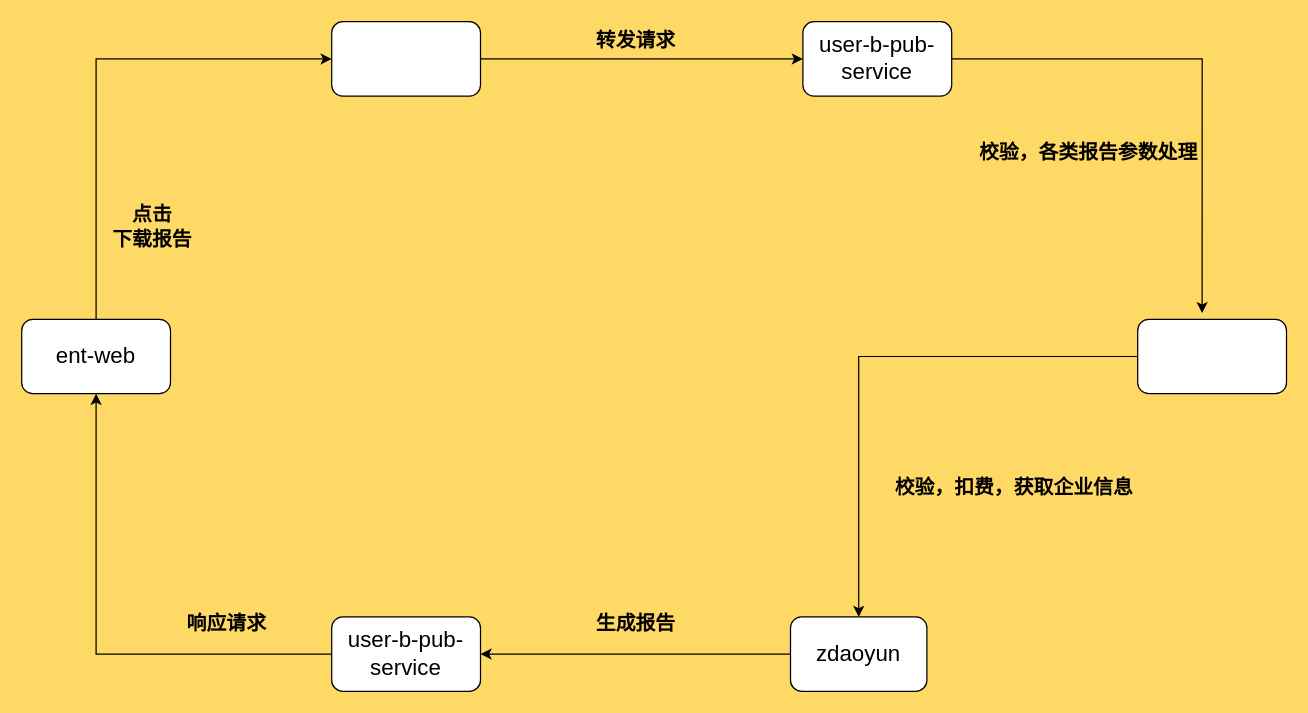
This 1308x713 diagram has some shape labels left out. The shapes that lost their labels are listed below. From the top down, each one's centre as x and y in pixels, then its label:
point (405, 58): web-b-pub-service
point (1211, 356): yxy-business
